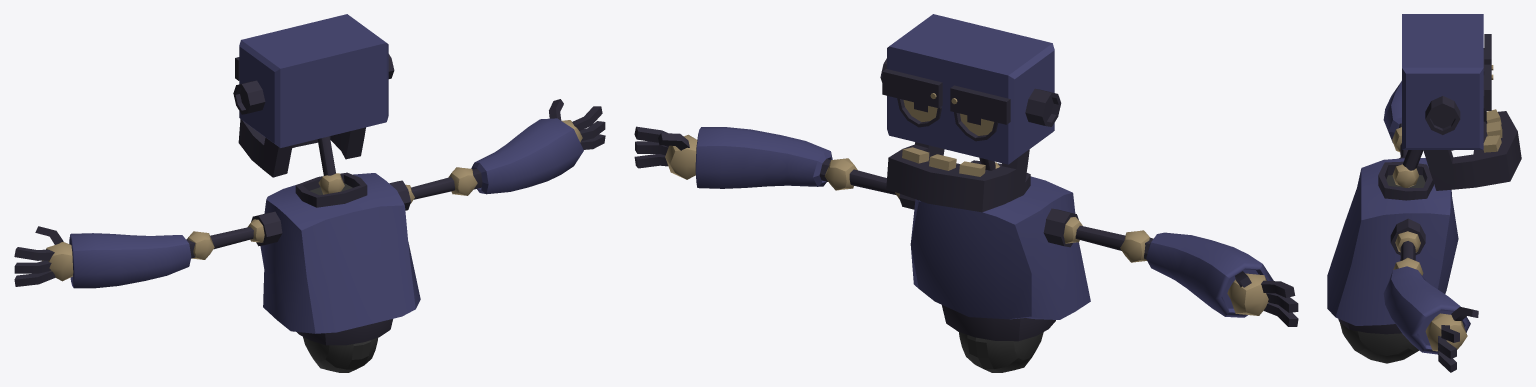
File: robot2.fbx
The picture shows the model from 3 angles, left to right: view 1: azimuth 30°, elevation 25°; view 2: azimuth 150°, elevation 25°; view 3: azimuth 270°, elevation 25°; orthographic projection. The views are drawn at different scales.
Parts seen in each view (by area): view 1: pCube28, pCube22, pCube2 (×2), pCube27, pCube30, pCube31, pCube9 (×2), pCube11 (×2), group18_pCube8, pCube32, pCube13, pCube34; view 2: pCube28, pCube22, pCube2 (×2), pCube27, pCube30, pCube13 (×2), pCube31, rightbrow, leftbrow, pCube11 (×2), pCube9 (×2), pCube32 (+1 smaller); view 3: pCube28, pCube22, pCube27, pCube2 (×2), pCube30, pCube33, pCube13, group18_pCube8, pCube35, pCube31, pCube11 (×2), leftbrow (+7 smaller).
Part boxes in pixels (x1,y1,x2,y2): pCube28: (260, 172, 420, 333); pCube22: (239, 14, 388, 147); pCube2 (×2): (69, 118, 583, 288); pCube27: (238, 119, 365, 177); pCube30: (303, 337, 377, 372); pCube31: (297, 319, 392, 345); pCube9 (×2): (210, 177, 455, 249); pCube11 (×2): (187, 167, 477, 259); group18_pCube8: (317, 136, 344, 194); pCube32: (233, 80, 265, 114); pCube13: (42, 242, 73, 281); pCube34: (251, 211, 282, 246); pCube28: (910, 160, 1090, 319); pCube22: (887, 14, 1054, 164); pCube2 (×2): (695, 127, 1273, 317); pCube27: (886, 142, 1029, 212); pCube30: (959, 332, 1043, 372); pCube13 (×2): (665, 134, 1268, 315); pCube31: (942, 305, 1055, 341); rightbrow: (950, 85, 1010, 124); leftbrow: (882, 69, 942, 108); pCube11 (×2): (824, 158, 1149, 262); pCube9 (×2): (849, 169, 1125, 250); pCube32: (1025, 88, 1061, 126); pCube28: (1327, 158, 1458, 325); pCube22: (1402, 14, 1486, 149); pCube27: (1423, 109, 1521, 190); pCube2 (×2): (1383, 81, 1470, 354); pCube30: (1339, 322, 1419, 363); pCube33: (1425, 96, 1460, 134); pCube13: (1425, 313, 1467, 351); group18_pCube8: (1392, 150, 1423, 187); pCube35: (1390, 218, 1425, 255); pCube31: (1338, 319, 1401, 334); pCube11 (×2): (1392, 127, 1423, 275); leftbrow: (1484, 64, 1493, 110).
Bounding box in the file's own units: 30.34 × 15.15 × 8.34.
